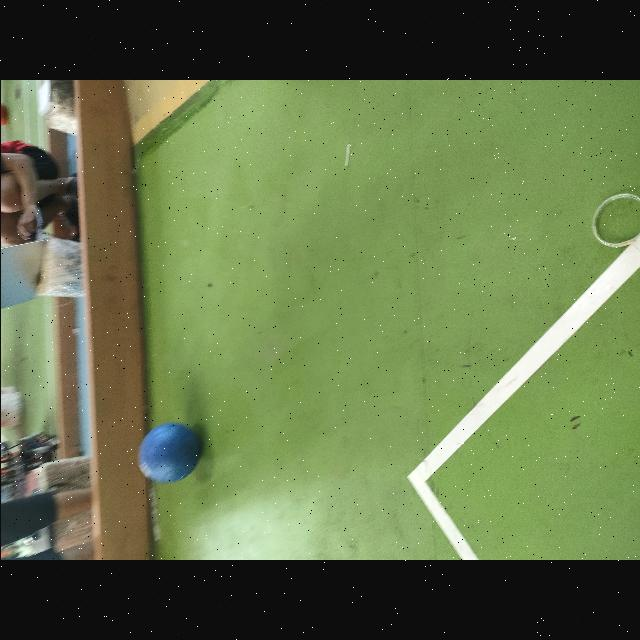B: (138, 422, 200, 482)
